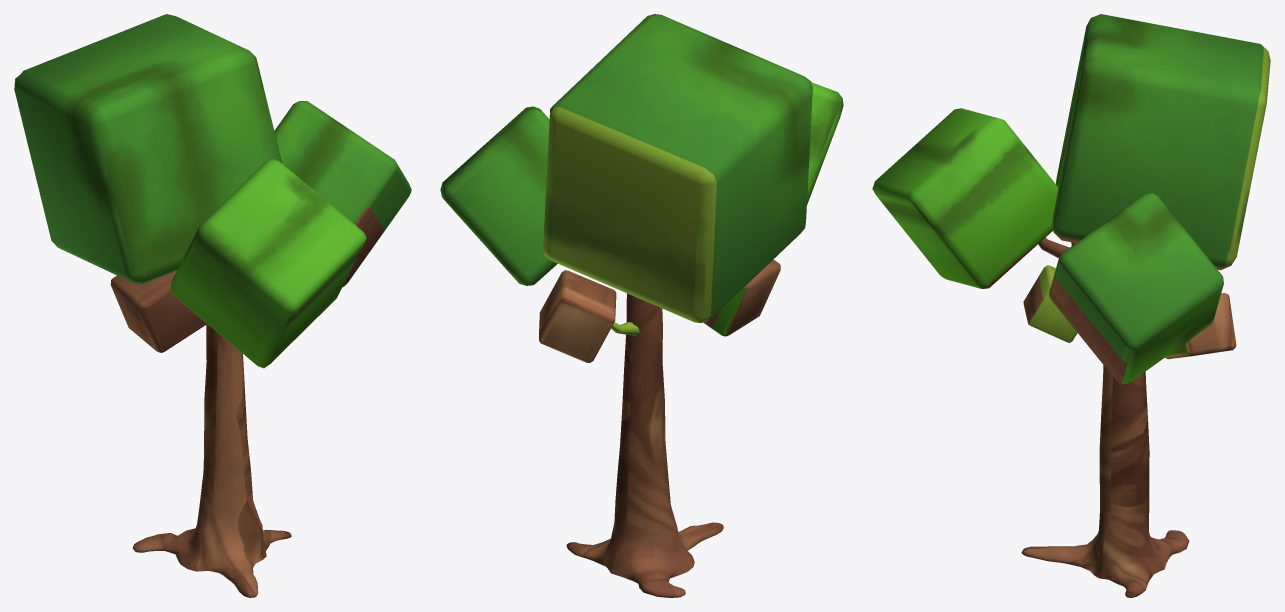
Rendered from Env_mesh_Tree.fbx.
The picture shows the model from 3 angles, left to right: view 1: azimuth 30°, elevation 25°; view 2: azimuth 150°, elevation 25°; view 3: azimuth 270°, elevation 25°; orthographic projection. The views are drawn at different scales.
Visible parts, largest first — view 1: Tree; view 2: Tree; view 3: Tree.
Part boxes in pixels (x1,y1,x2,y2): Tree: [14, 14, 411, 597]; Tree: [440, 14, 843, 597]; Tree: [872, 14, 1270, 597].
Bounding box in the file's own units: 389 × 565 × 402.
